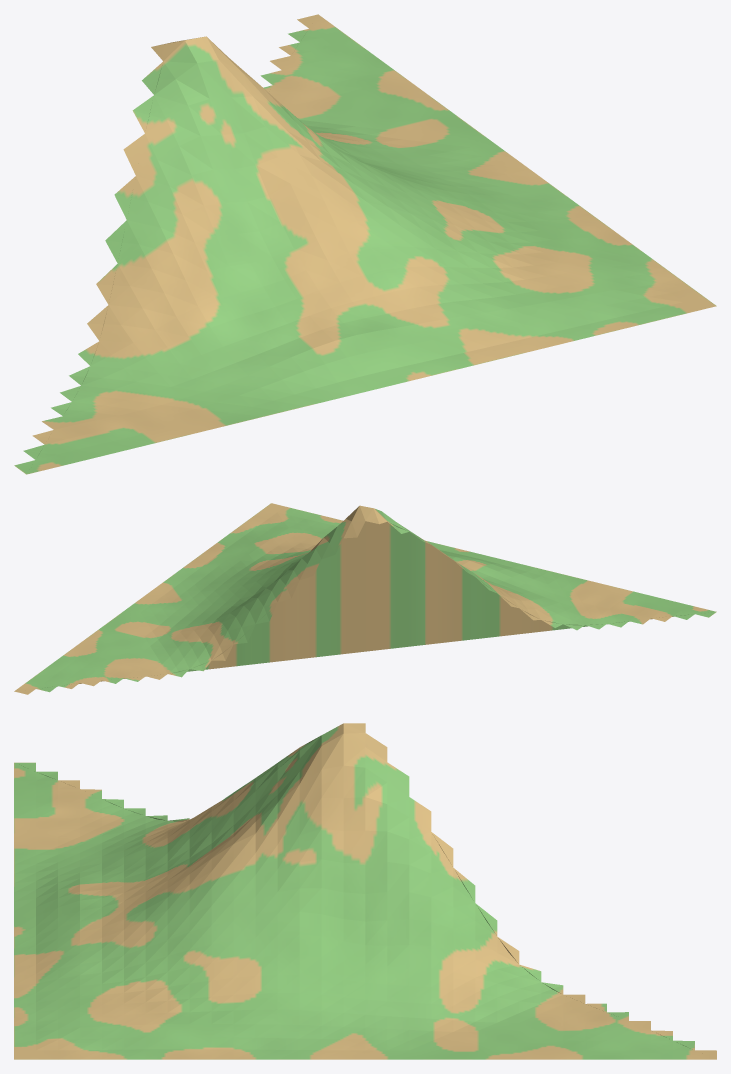
File: Grass_Hills_09_NE.obj
3 views of the same model, one above another, from view 1: azimuth 30°, elevation 25°; view 2: azimuth 150°, elevation 25°; view 3: azimuth 270°, elevation 25° (orthographic). The views are drawn at different scales.
Bounding box in the file's own units: 10 × 2.95 × 10.
Materials: 1 (1 with a texture image).
